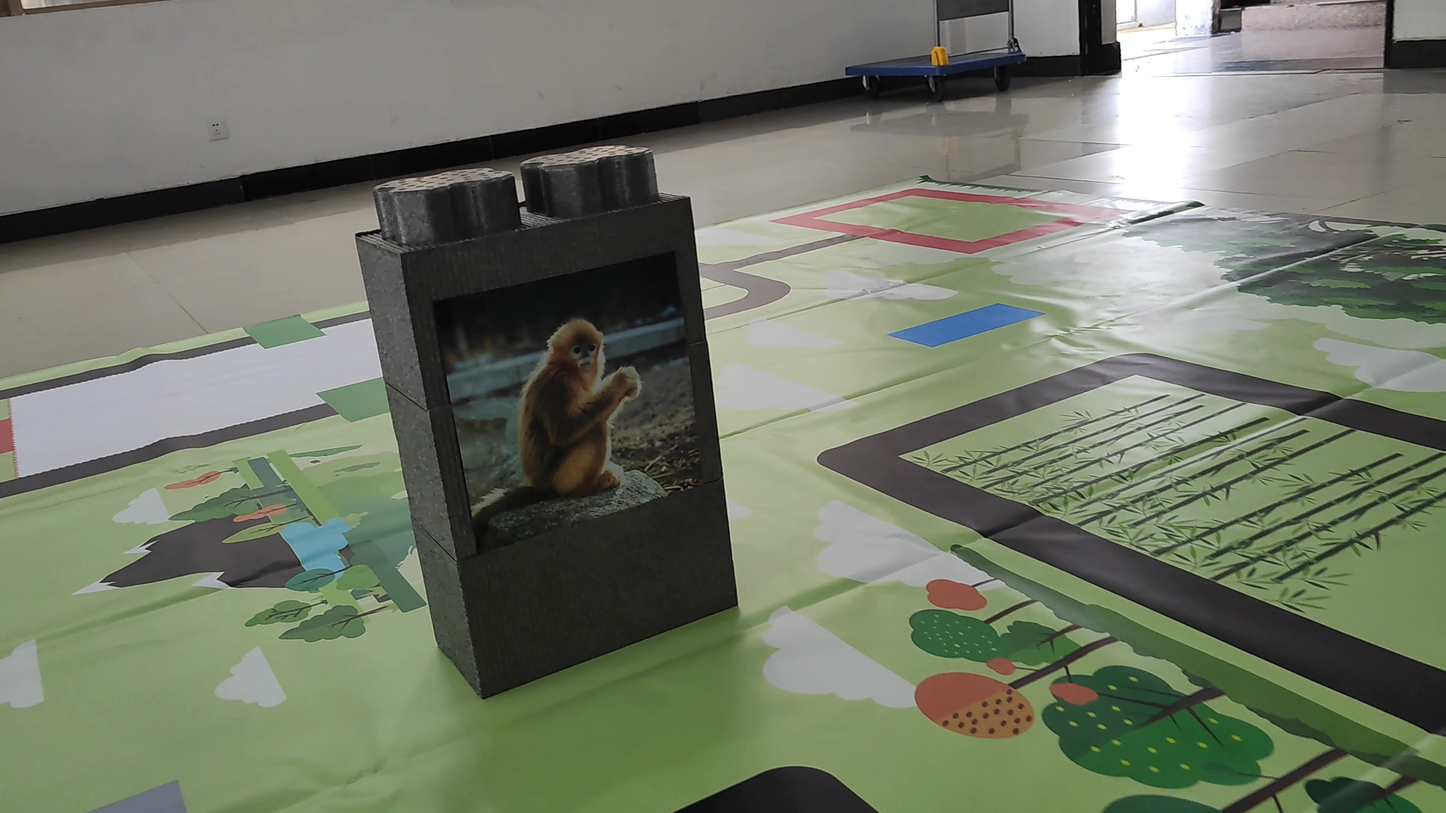monkey: (448, 306, 656, 549)
